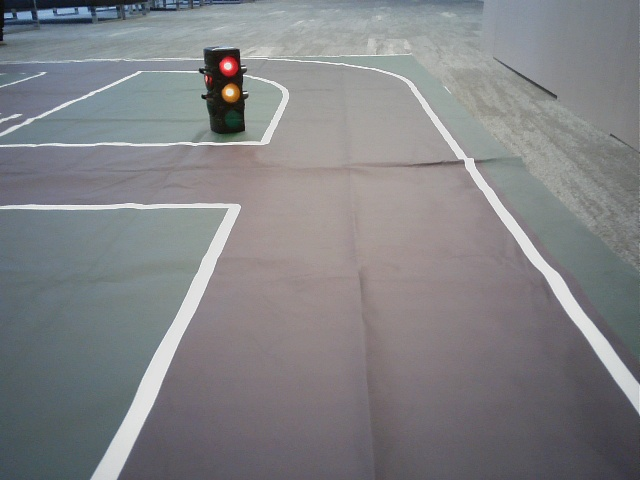red: (214, 53, 244, 131)
